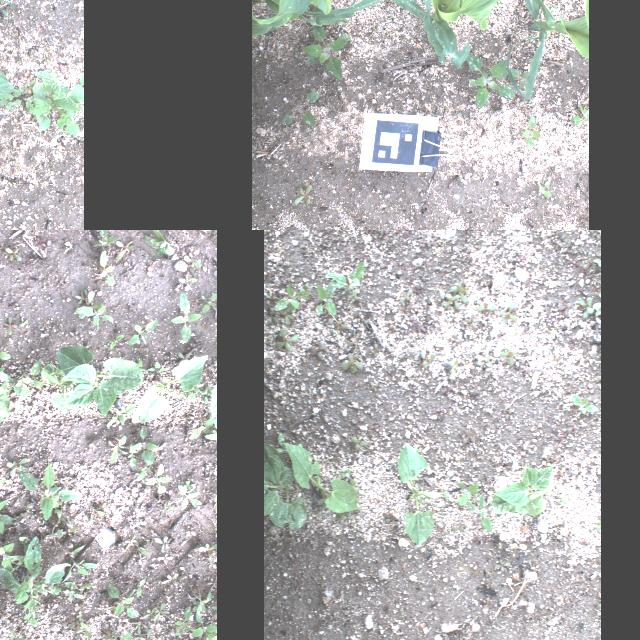crop: (375, 0, 589, 69), (53, 340, 145, 418), (517, 0, 588, 101), (252, 0, 412, 37), (281, 442, 361, 514), (130, 352, 208, 424), (398, 442, 446, 546), (24, 71, 84, 139), (264, 442, 306, 530), (492, 462, 554, 516), (0, 336, 14, 419)
weed: (0, 537, 70, 634), (20, 462, 84, 522), (0, 340, 45, 403), (299, 27, 351, 81), (465, 56, 519, 108), (33, 363, 79, 415), (50, 532, 104, 576), (33, 605, 94, 640), (74, 287, 116, 329), (126, 417, 160, 467), (168, 295, 202, 343), (324, 262, 366, 300), (0, 540, 33, 584), (280, 91, 320, 127), (172, 590, 214, 624), (106, 581, 140, 619), (143, 230, 178, 261), (0, 477, 17, 539), (102, 402, 142, 428), (144, 462, 172, 498), (127, 318, 157, 350), (467, 493, 491, 532), (200, 424, 217, 476), (274, 286, 310, 310), (96, 230, 119, 267), (52, 580, 86, 604), (521, 115, 543, 152), (178, 480, 204, 510), (107, 436, 131, 468), (452, 480, 480, 506), (92, 262, 116, 292), (316, 280, 336, 316), (186, 621, 217, 640), (86, 628, 135, 640), (571, 394, 599, 414), (274, 328, 296, 352), (292, 180, 312, 206), (180, 248, 203, 270), (153, 569, 180, 587), (173, 276, 199, 294), (200, 535, 217, 562), (148, 607, 168, 627), (570, 103, 588, 125), (148, 358, 166, 380), (452, 282, 470, 304), (200, 292, 217, 315), (342, 353, 362, 372), (0, 88, 22, 105), (155, 534, 173, 554), (500, 344, 516, 366), (0, 0, 20, 17), (499, 304, 516, 324), (4, 246, 22, 264), (578, 298, 594, 318), (420, 350, 436, 370), (443, 294, 461, 310), (352, 435, 368, 451), (538, 180, 552, 198), (312, 342, 326, 358), (476, 302, 496, 312), (134, 574, 142, 598), (6, 98, 20, 110), (24, 79, 36, 93), (465, 315, 479, 327), (478, 356, 492, 368), (451, 360, 462, 374), (42, 51, 52, 65), (16, 634, 36, 640), (340, 467, 350, 477), (292, 52, 302, 60), (459, 179, 466, 185), (561, 58, 565, 64)
